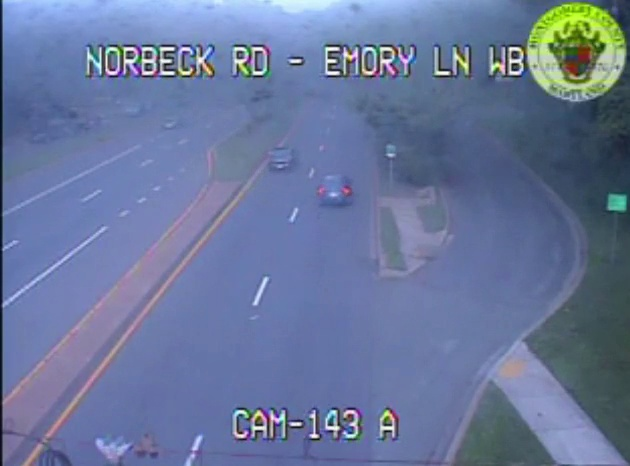car: (318, 176, 352, 204), (268, 148, 296, 173)
